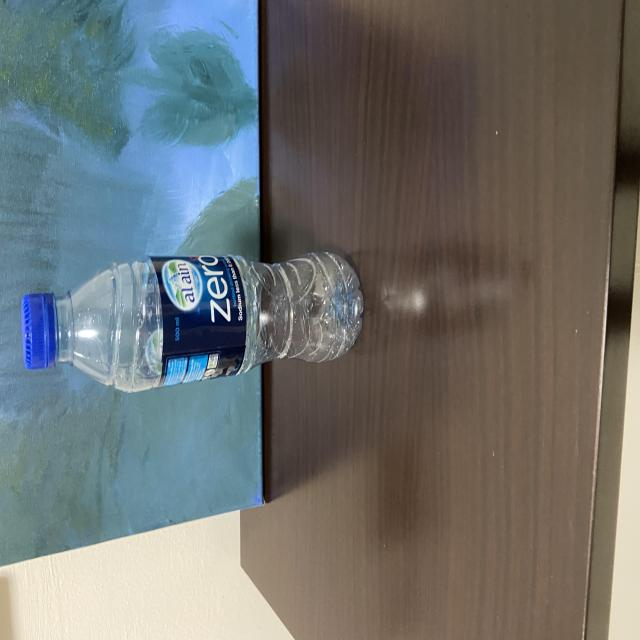plastic: (17, 250, 365, 392)
